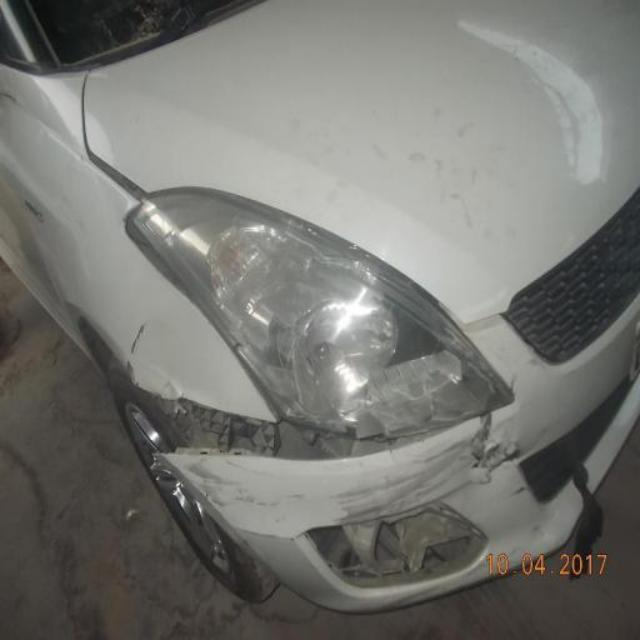dent: (134, 387, 477, 464)
scratch: (183, 459, 308, 517)
